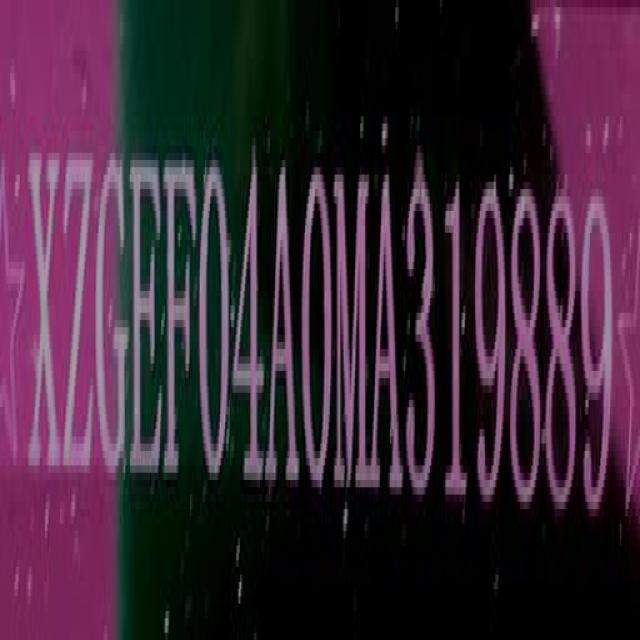0: (302, 161, 334, 493), (202, 154, 232, 494)
1: (442, 172, 462, 508)
3: (409, 175, 438, 508)
4: (233, 155, 265, 494)
8: (510, 189, 543, 515), (547, 193, 579, 516)
9: (476, 180, 507, 514), (583, 202, 614, 521)
A: (267, 156, 298, 494), (372, 165, 402, 500)
E: (132, 148, 164, 491)
F: (164, 152, 196, 494)
G: (96, 145, 128, 484)
M: (337, 164, 370, 498)
X: (30, 142, 62, 480)
Z: (63, 145, 94, 486)
